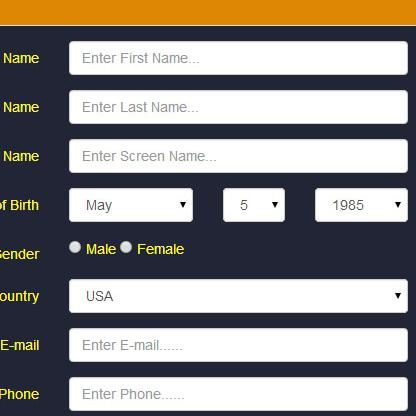field: (66, 324, 408, 365), (67, 88, 410, 126), (66, 39, 410, 76), (66, 138, 409, 174), (68, 376, 411, 412)
